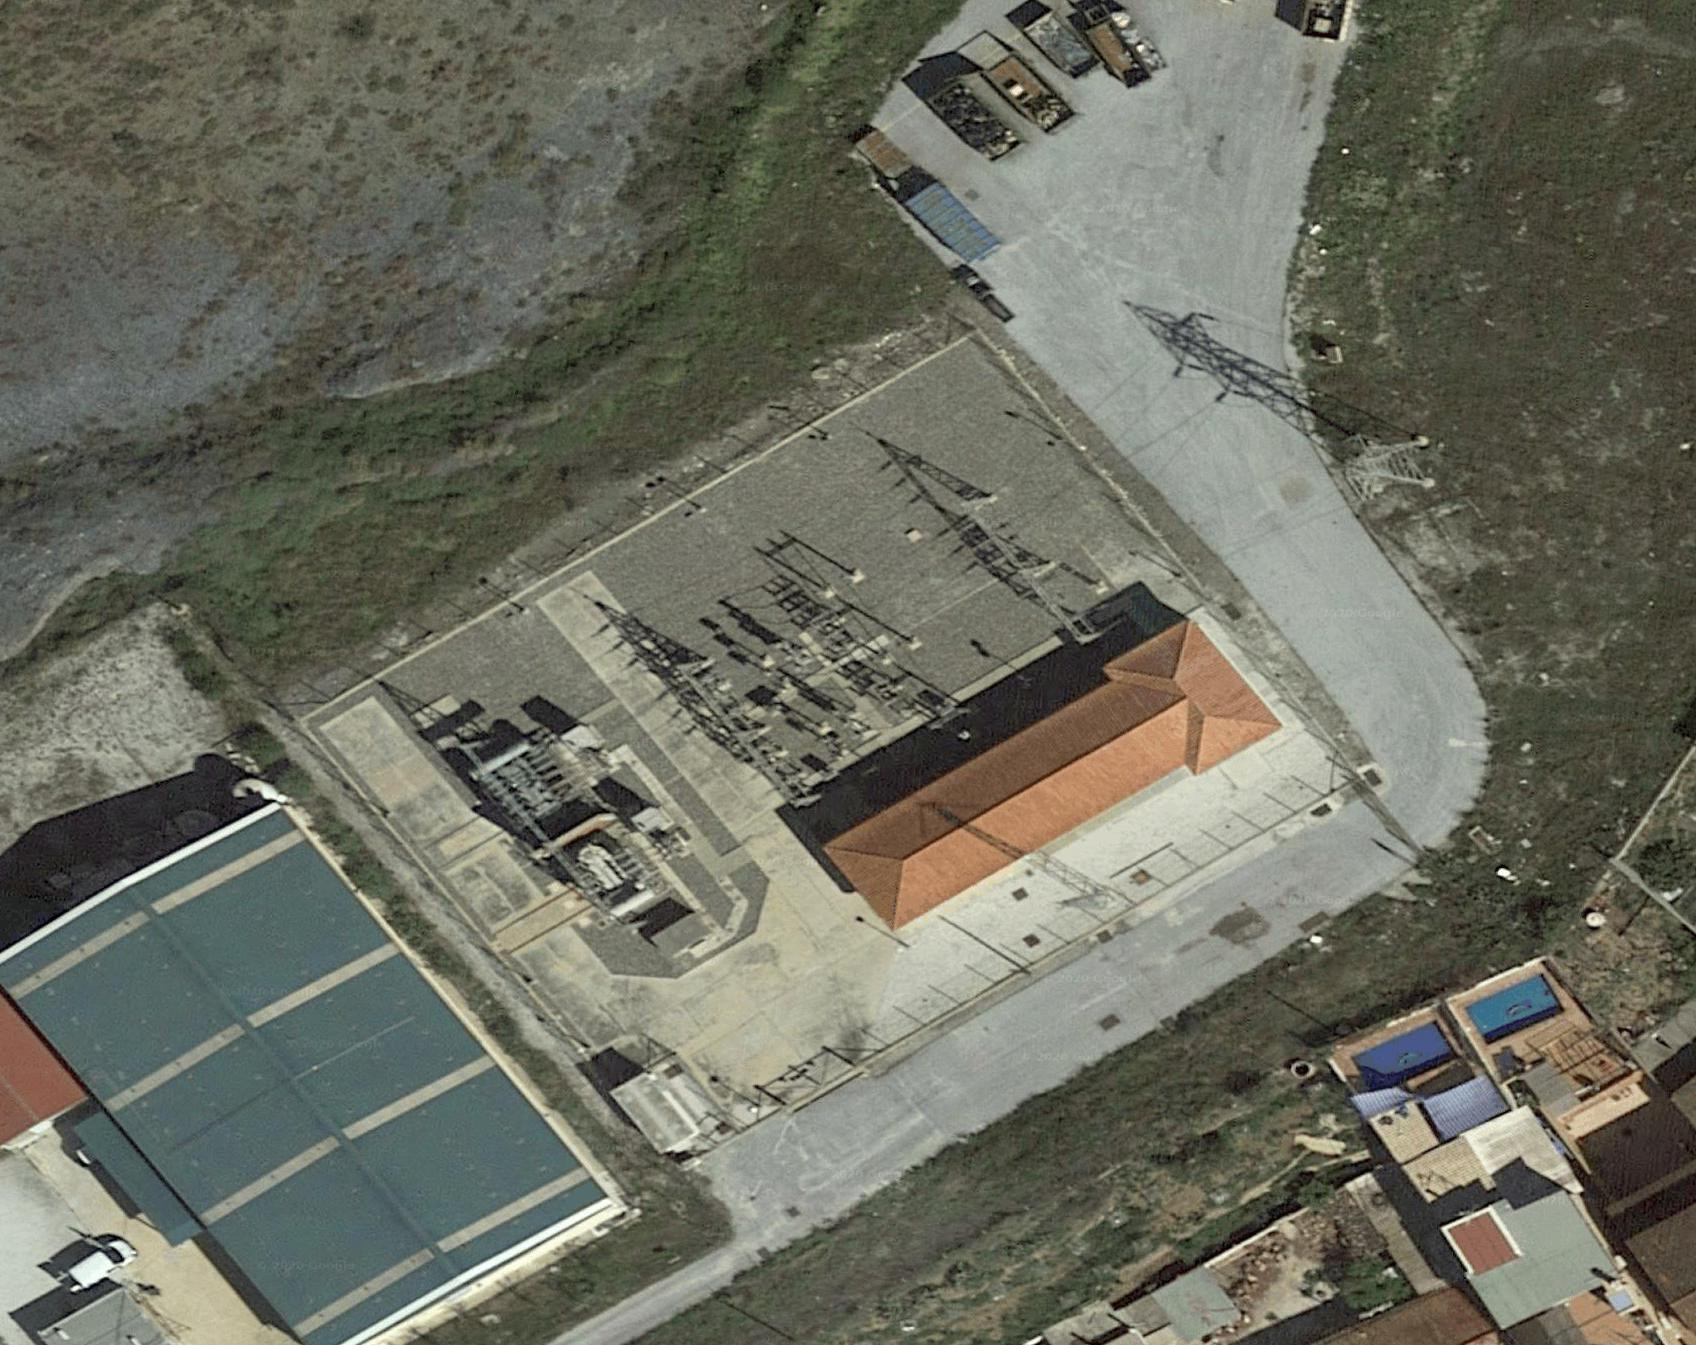substation: (369, 423, 1126, 961)
